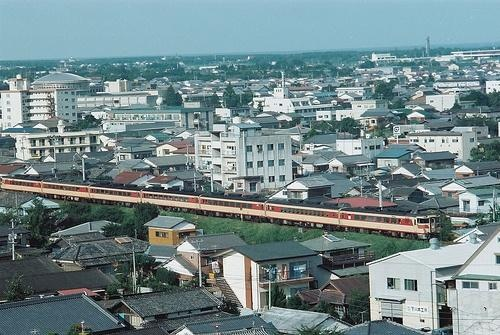train: (1, 176, 444, 243)
